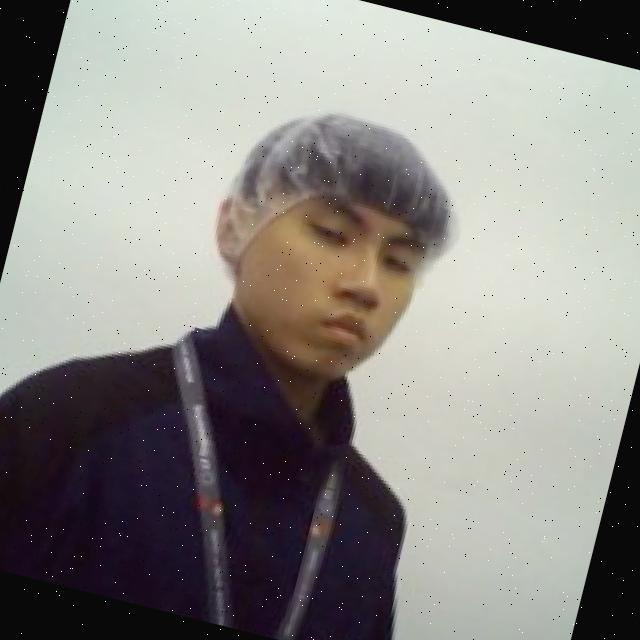gloves: (203, 92, 477, 318)
no_hairnet: (189, 210, 428, 406)
